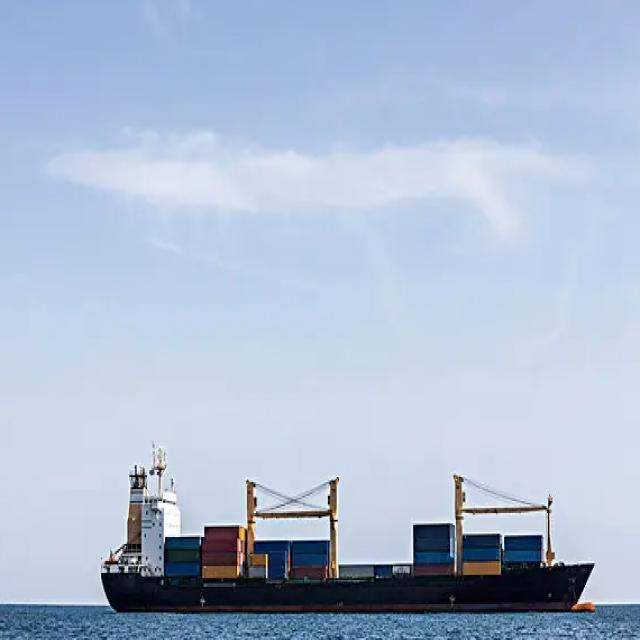cargoship: (100, 399, 594, 640)
